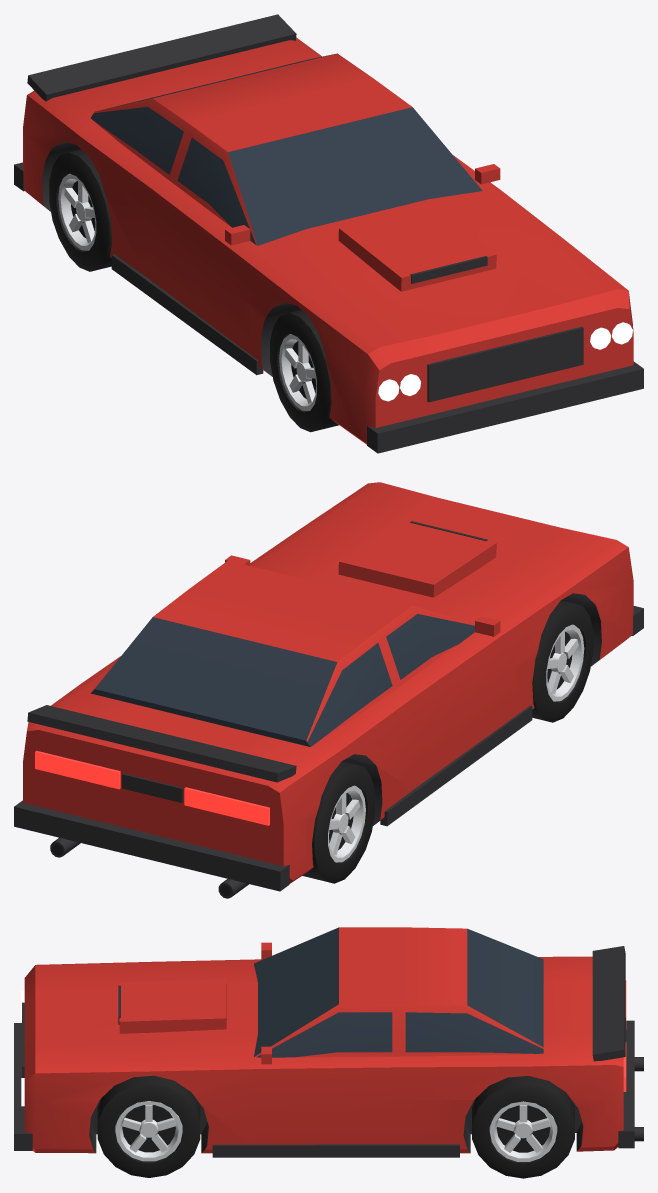
The model's file is car_b.glb.
3 views of the same model, one above another, from view 1: azimuth 30°, elevation 25°; view 2: azimuth 150°, elevation 25°; view 3: azimuth 270°, elevation 25° (orthographic). The views are drawn at different scales.
Visible parts, largest first — view 1: body, wheel_RR, wheel_FR; view 2: body, wheel_RR, wheel_FR; view 3: body, wheel_RL, wheel_FL.
Part boxes in pixels (x1,y1,x2,y2): body: [14, 14, 643, 453]; wheel_RR: [49, 149, 112, 271]; wheel_FR: [270, 310, 338, 432]; body: [14, 482, 643, 898]; wheel_RR: [302, 761, 374, 883]; wheel_FR: [532, 600, 593, 722]; body: [14, 927, 643, 1157]; wheel_RL: [472, 1076, 574, 1178]; wheel_FL: [97, 1075, 200, 1177].
Bounding box in the file's own units: 2.03 × 1.3 × 4.71.
